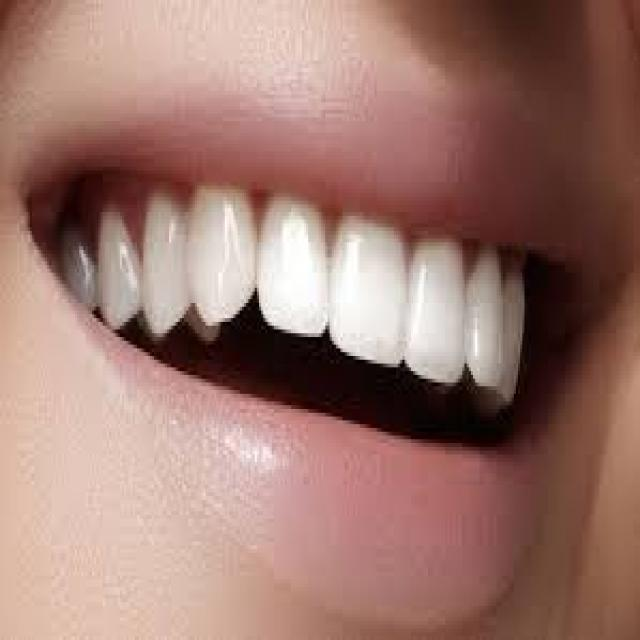tooth: (334, 205, 404, 368), (259, 197, 330, 341), (188, 186, 255, 318), (409, 234, 464, 378), (146, 186, 184, 318), (467, 254, 505, 382), (92, 223, 135, 322), (58, 223, 96, 314), (503, 269, 522, 398)
